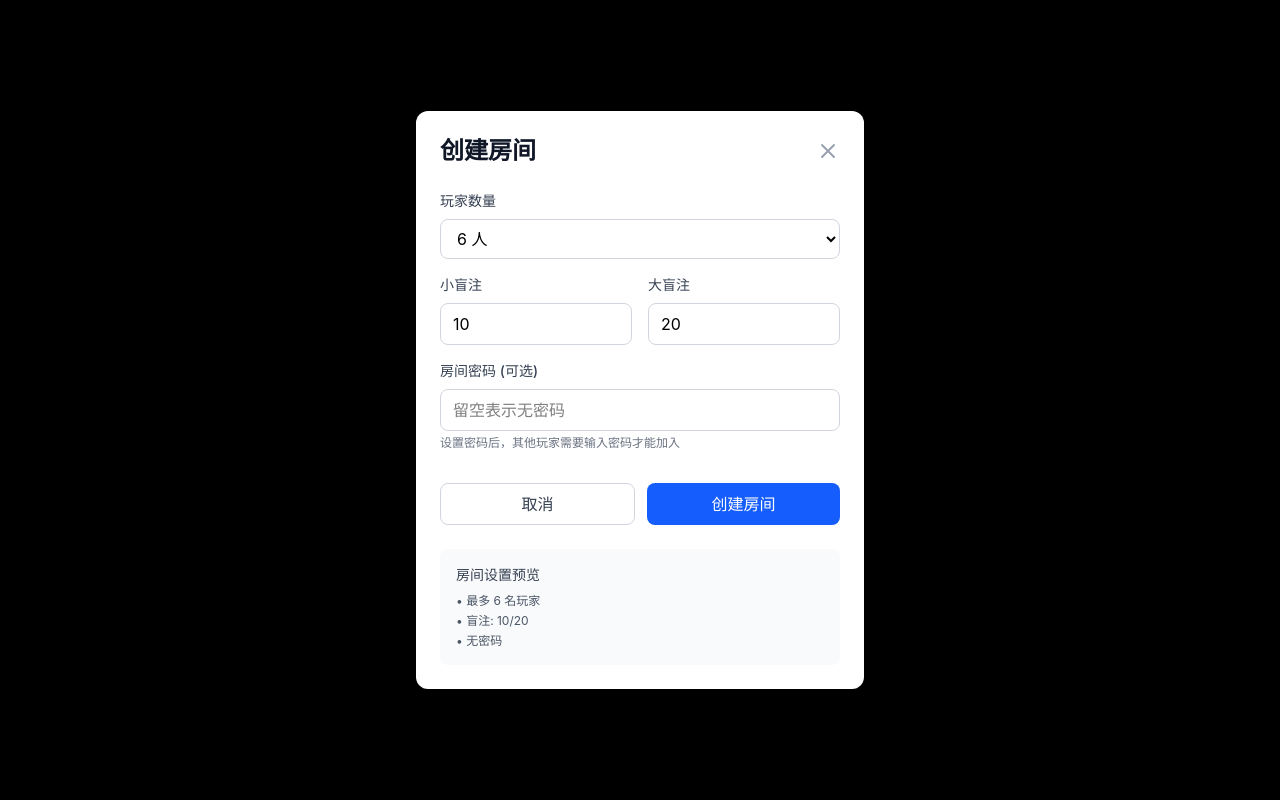
Test: CreateRoomModal › Form Interactions › should update blind values when changed
Replace the text in the number field showing "10" below "小盲注" with "25" at point(536, 324), box [440,303,632,345]
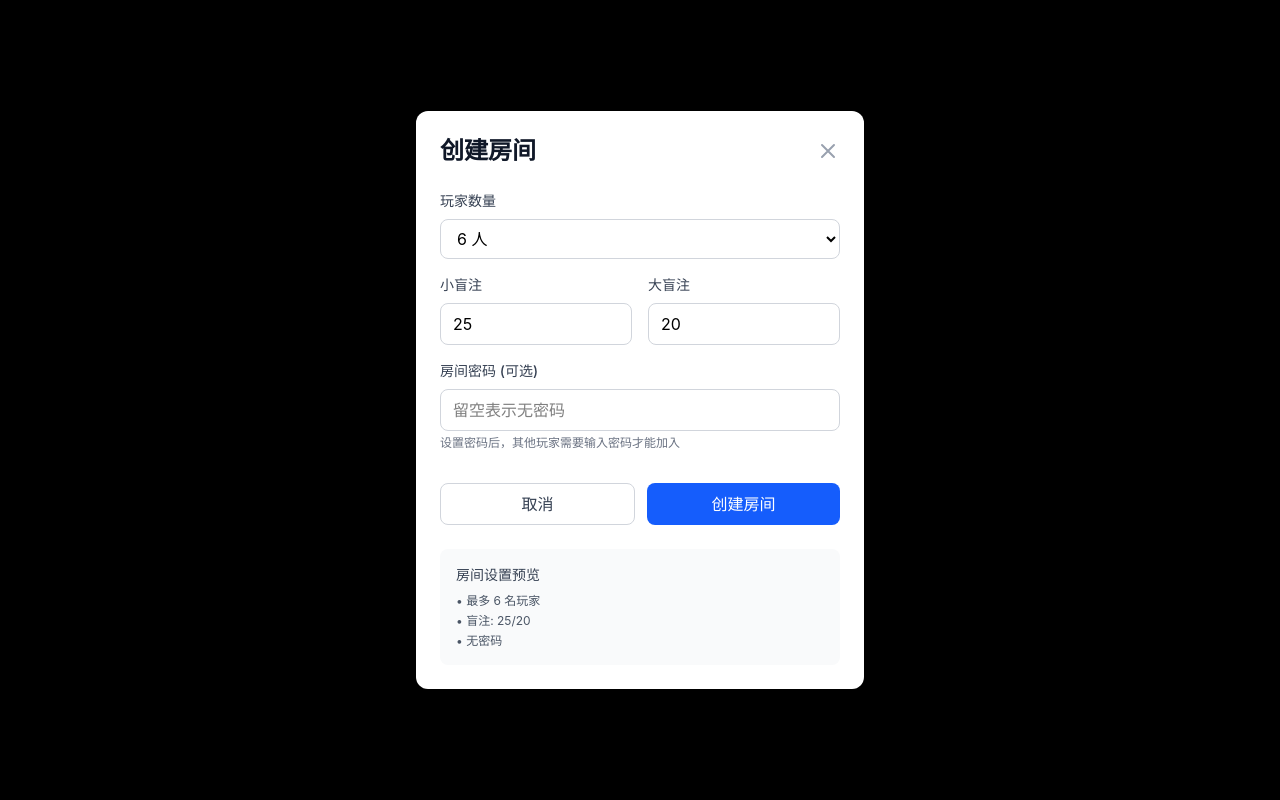
Replace the text in the number field showing "20" below "大盲注" with "50" at point(744, 324), box [648,303,840,345]
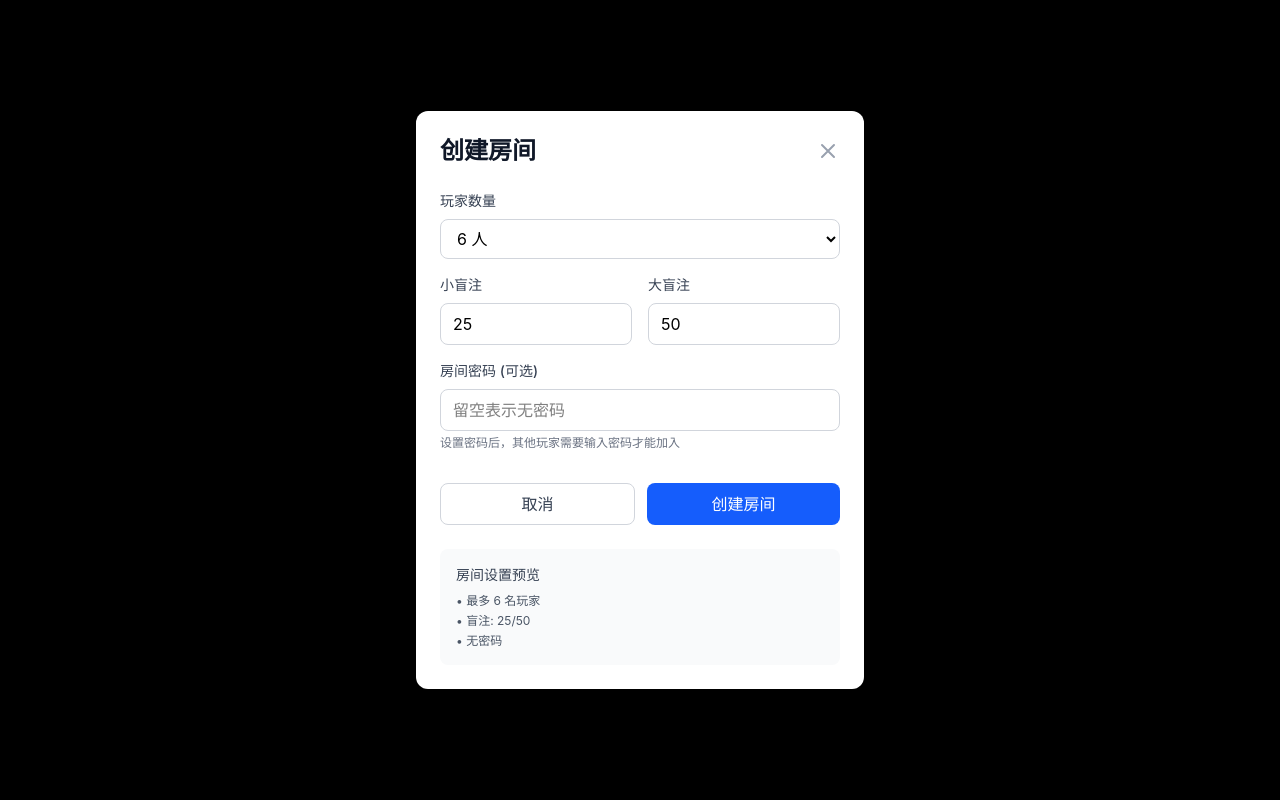
Now the text "• 盲注: 25/50" is shown, box [456,613,530,628]
